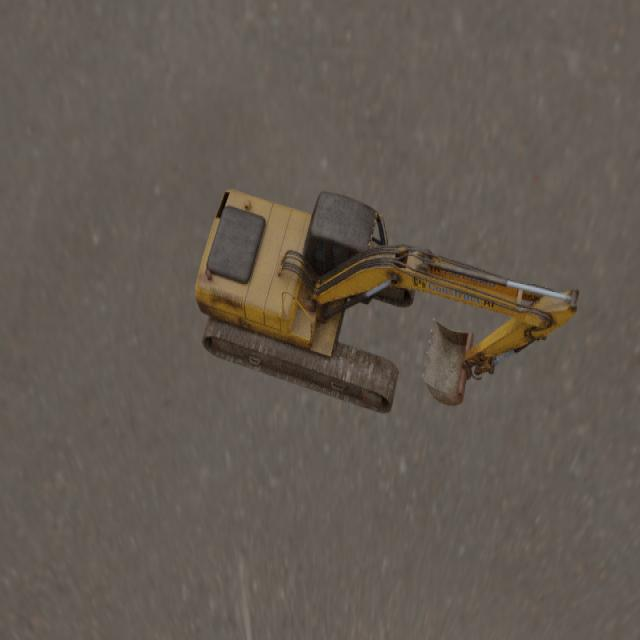excavator: (194, 188, 579, 413)
